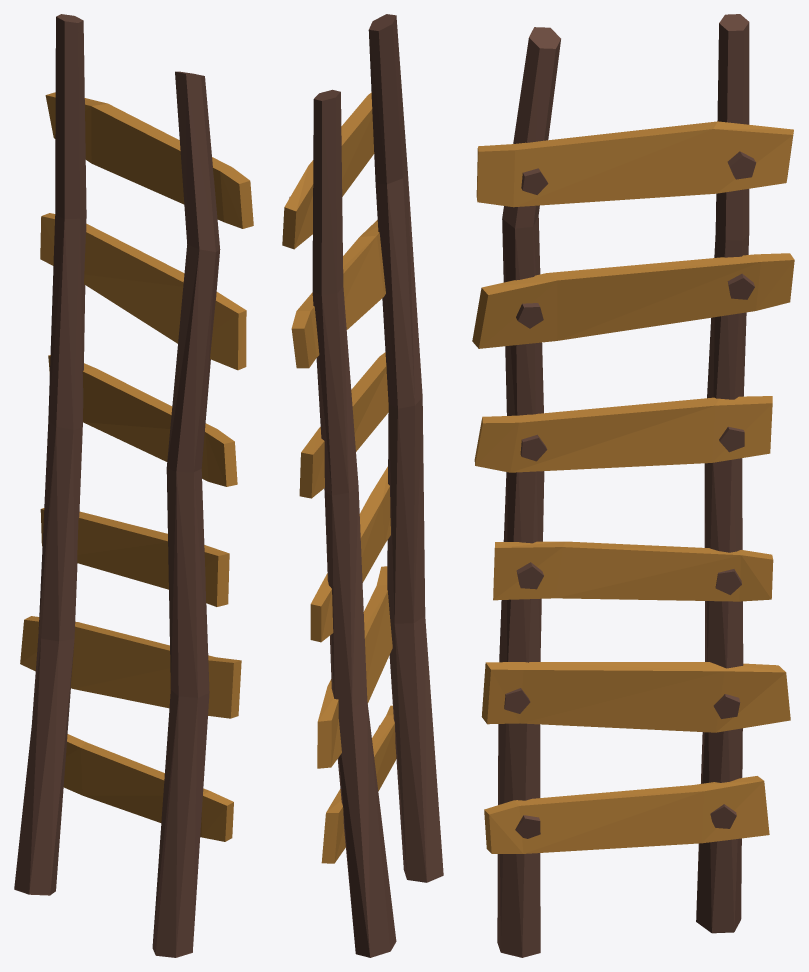
Rendered from ladder.glb.
3 views of the same model, side by side, from view 1: azimuth 30°, elevation 25°; view 2: azimuth 150°, elevation 25°; view 3: azimuth 270°, elevation 25° (orthographic). The views are drawn at different scales.
Visible parts, largest first — view 1: node_MeshObject849589248-PolyPaper16; view 2: node_MeshObject849589248-PolyPaper16; view 3: node_MeshObject849589248-PolyPaper16.
Boxes of the visible parts, bbox=[...] form: node_MeshObject849589248-PolyPaper16: bbox=[14, 14, 253, 957]; node_MeshObject849589248-PolyPaper16: bbox=[282, 14, 443, 957]; node_MeshObject849589248-PolyPaper16: bbox=[472, 14, 794, 957].
Bounding box in the file's own units: 0.1279 × 0.8349 × 0.2615.
